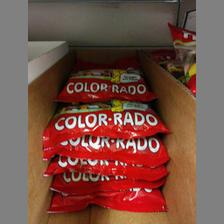Suessigkeit: (60, 48, 150, 96)
